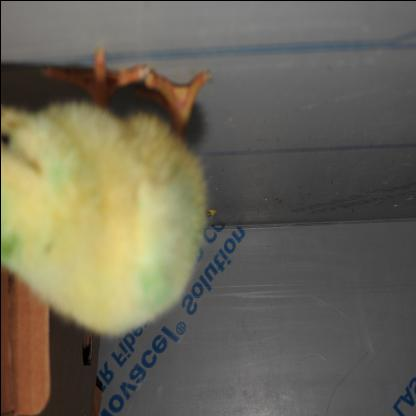Chicken: (0, 49, 213, 353)
